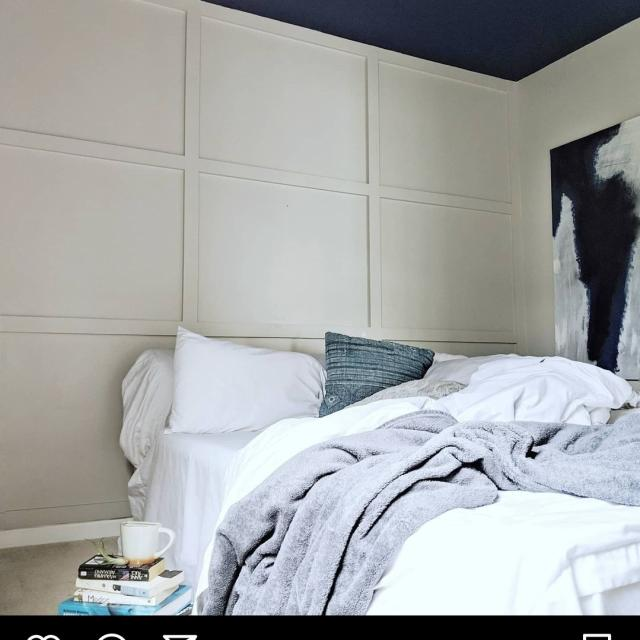bed: (107, 307, 640, 617)
